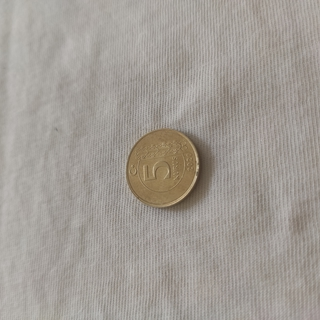5KURUS: (124, 127, 200, 207)
